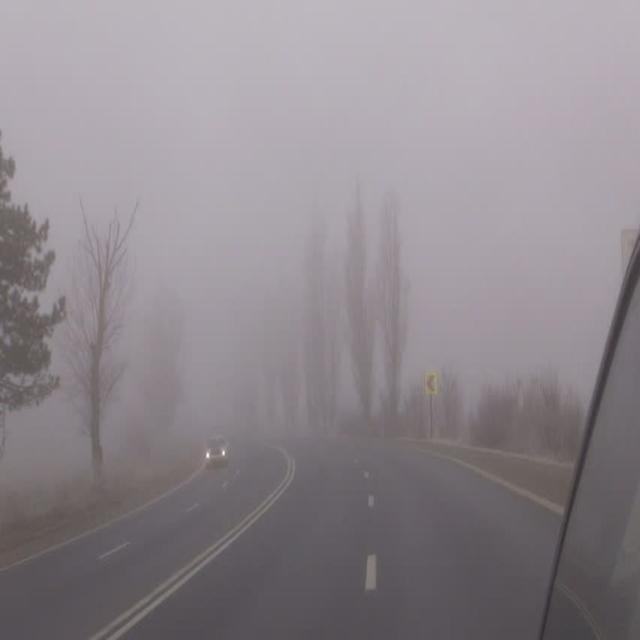car: (204, 435, 230, 470)
